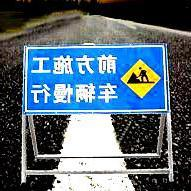sign: (23, 46, 170, 114)
